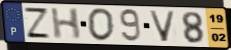8: (179, 11, 205, 45)
9: (119, 8, 143, 44)
H: (50, 8, 83, 41)
O: (86, 7, 116, 43)
V: (147, 10, 178, 43)
Z: (22, 6, 53, 40)
